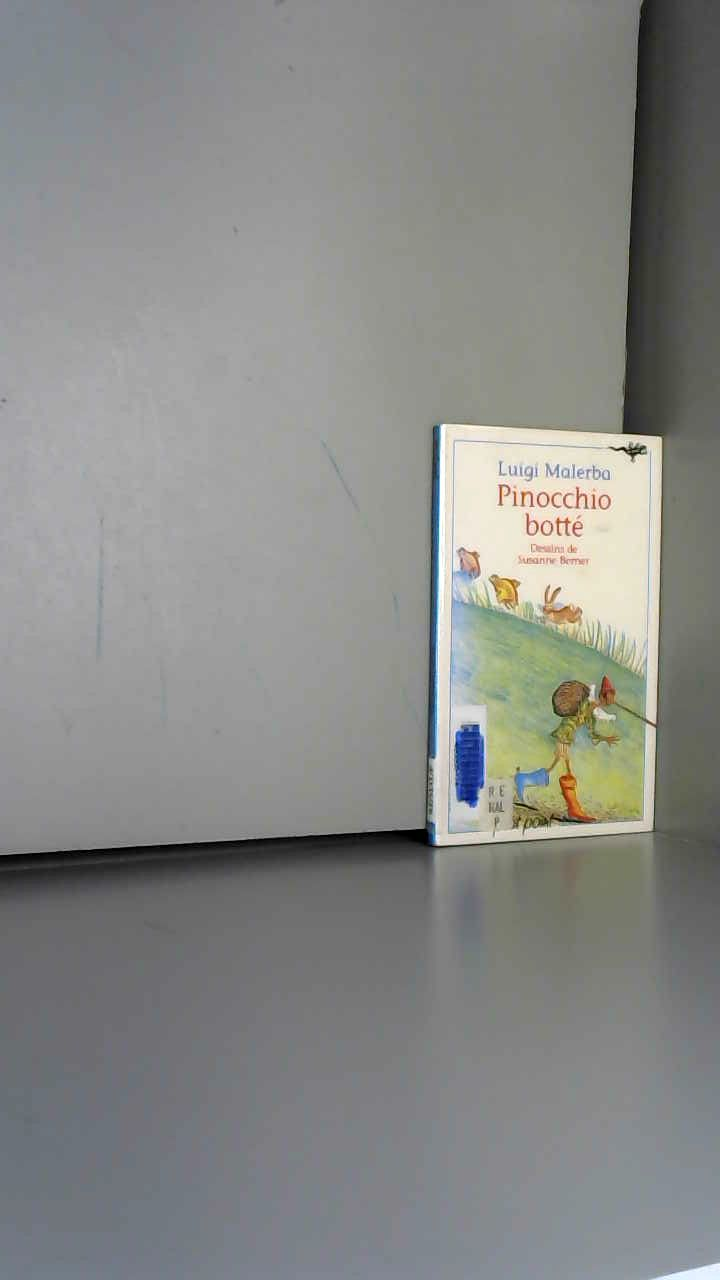book: (400, 400, 719, 920)
